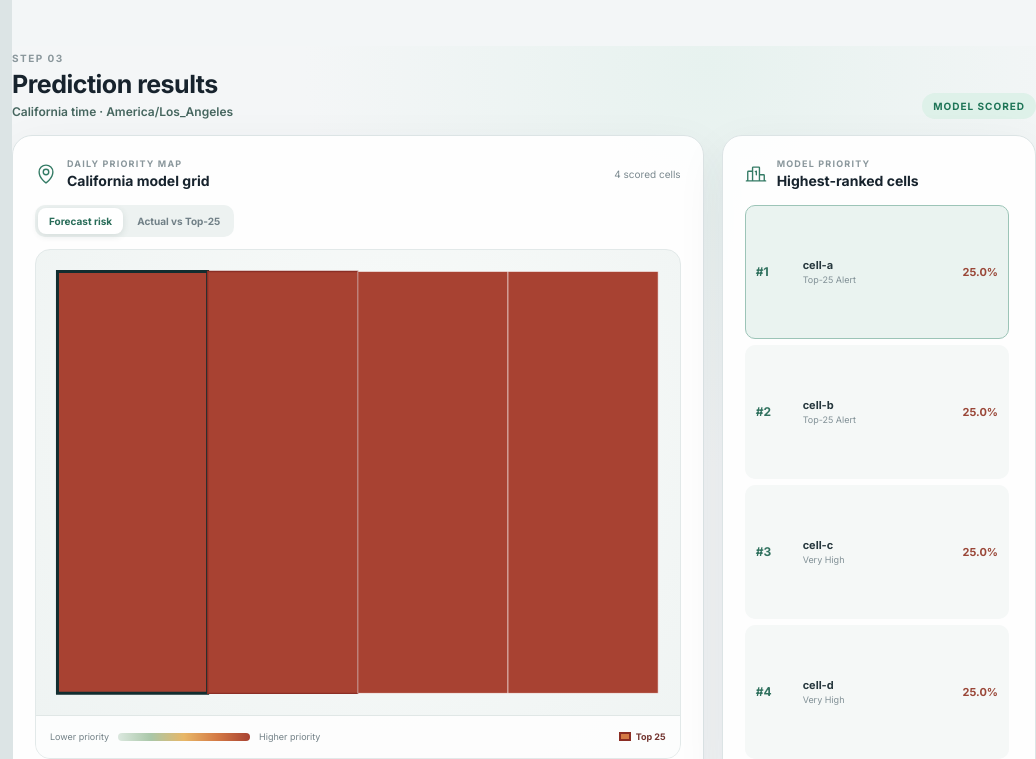
RiskResults › toggles to actual-vs-top-25 outcomes and renders operational metrics
Click the button "Actual vs Top-25". click: (179, 221)
box: [126,208,231,234]
(page scrolled)
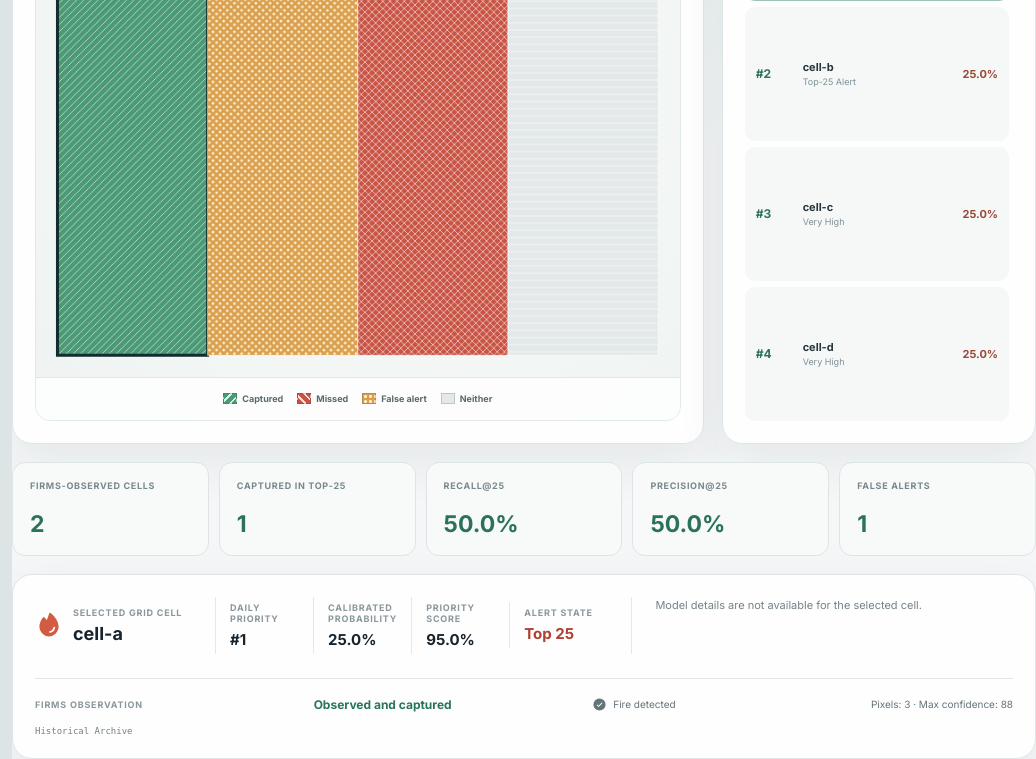
Expected: the text "Observed and captured" is shown, [314,697,452,712]
Result: the text "FIRMS-observed cells" is shown at [30,480,155,491]
Result: the text "50.0%" is shown 2 times at [444,510,519,538]; [650,510,725,538]
